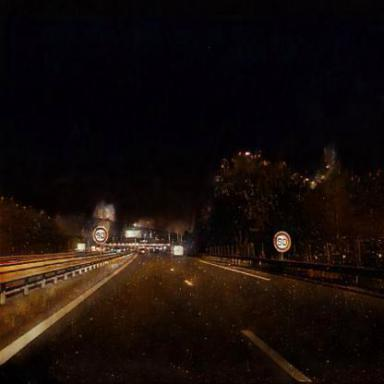Speed_limit_90: (273, 231, 291, 249), (94, 226, 107, 244)
